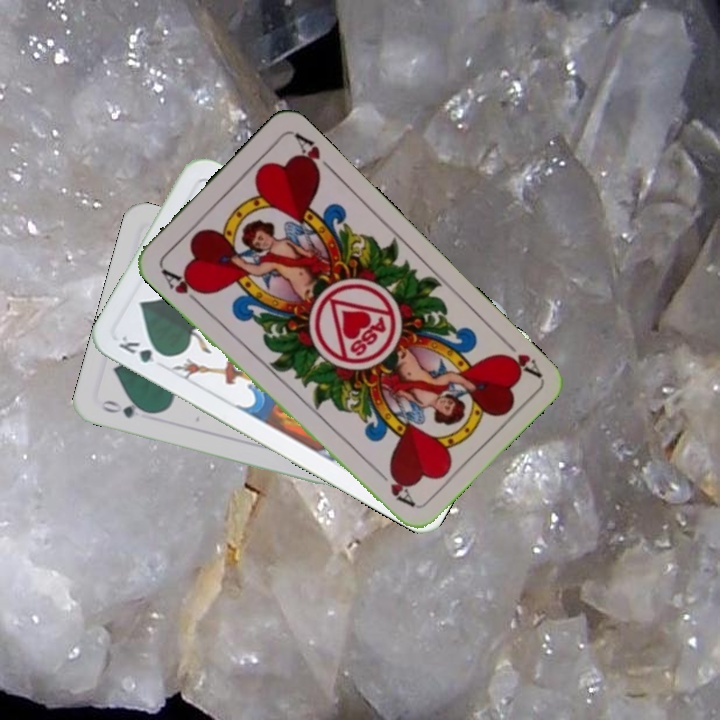GK: (114, 330, 171, 367)
GO: (97, 396, 156, 421)
HA: (156, 264, 208, 308), (496, 332, 543, 380)
